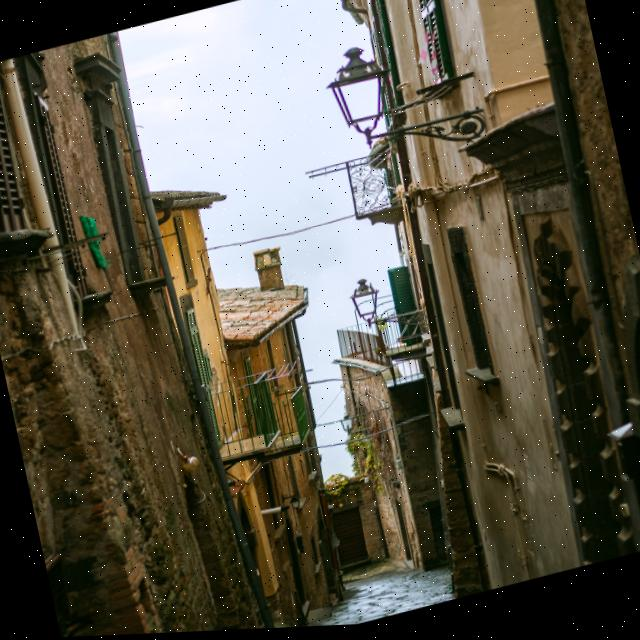building: (260, 0, 640, 619), (0, 0, 361, 640)
